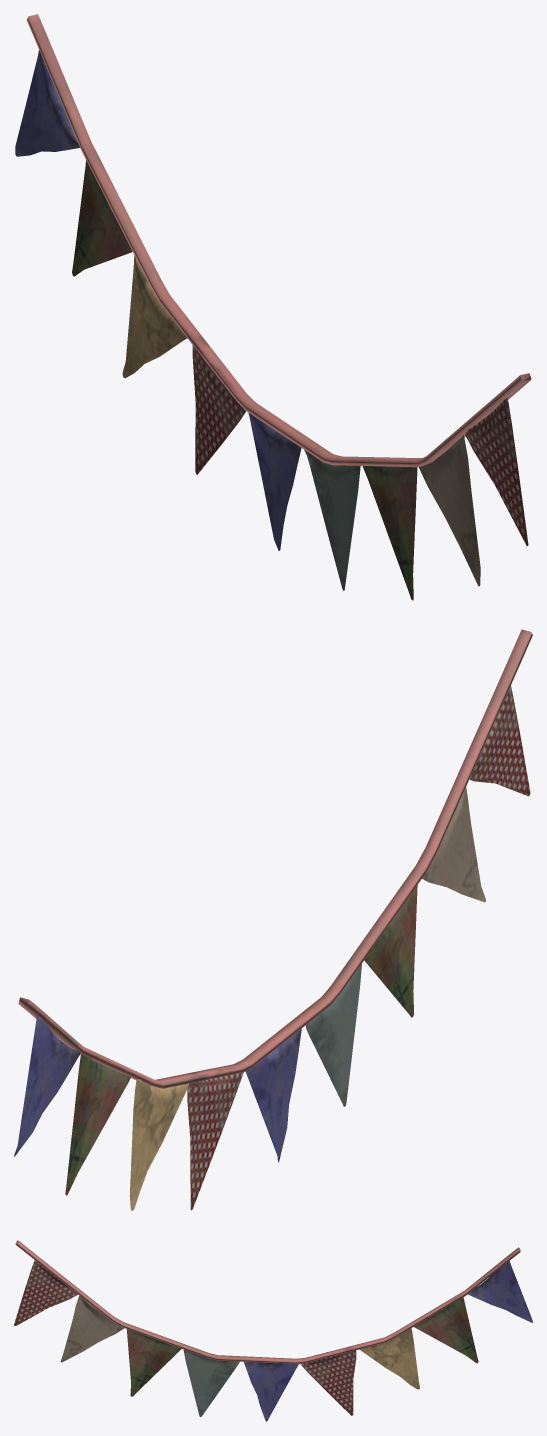
The model's file is sm24_030_flag03a.fbx.
The picture shows the model from 3 angles, top to bottom: view 1: azimuth 30°, elevation 25°; view 2: azimuth 150°, elevation 25°; view 3: azimuth 270°, elevation 25°; orthographic projection. The views are drawn at different scales.
Visible parts, largest first — view 1: LOD_1_Group_0_Sub_1__sm24_030_Flag03A_A_Mat; view 2: LOD_1_Group_0_Sub_1__sm24_030_Flag03A_A_Mat; view 3: LOD_1_Group_0_Sub_1__sm24_030_Flag03A_A_Mat.
Boxes of the visible parts, x1,y1,x2,y2 form: LOD_1_Group_0_Sub_1__sm24_030_Flag03A_A_Mat: (15,14,531,600); LOD_1_Group_0_Sub_1__sm24_030_Flag03A_A_Mat: (14,629,532,1210); LOD_1_Group_0_Sub_1__sm24_030_Flag03A_A_Mat: (14,1240,532,1421).
Size of the model in its own units: 0.0557 by 1.02 by 2.67.
